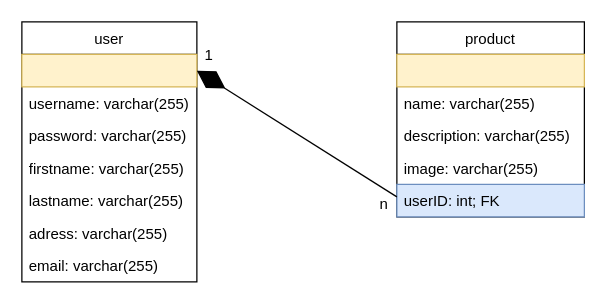
Image size: 606x308. Some labels were removed from this diagram. Here are the shapes that lost their labels. From the top down, the centre of each, then its label:
At (x=109, y=70): "userID: int: PK".
At (x=490, y=70): "productID: int: PK".
